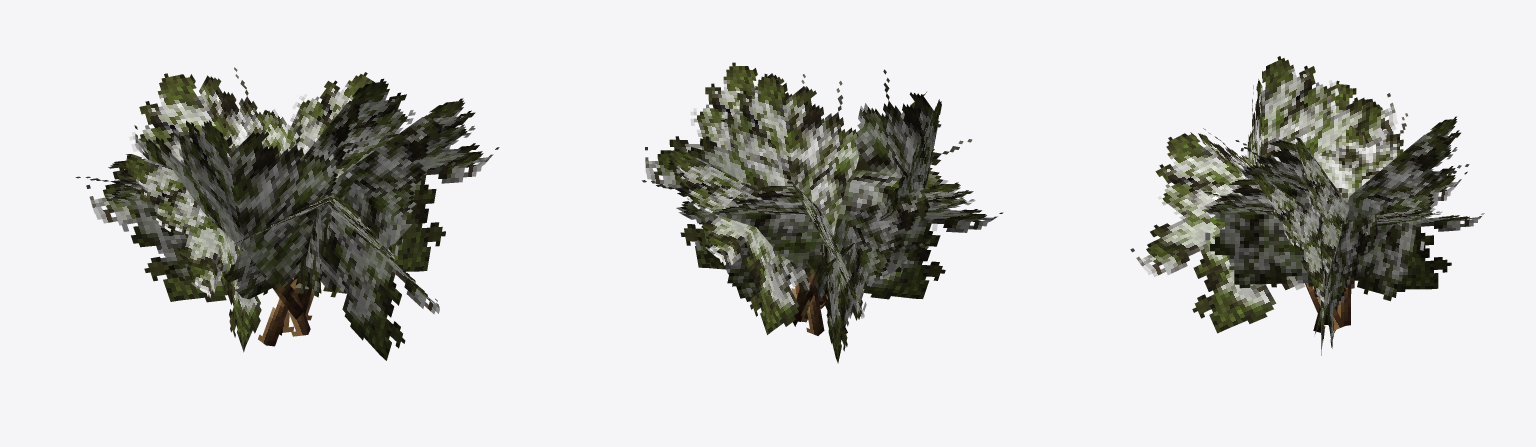
File: sbushsno_1.dae
The picture shows the model from 3 angles, left to right: view 1: azimuth 30°, elevation 25°; view 2: azimuth 150°, elevation 25°; view 3: azimuth 270°, elevation 25°; orthographic projection. The views are drawn at different scales.
Visible parts, largest first — view 1: sbushsno_1; view 2: sbushsno_1; view 3: sbushsno_1.
Boxes of the visible parts, x1=… form: sbushsno_1: x1=75, y1=67, x2=499, y2=360; sbushsno_1: x1=642, y1=62, x2=1003, y2=363; sbushsno_1: x1=1130, y1=56, x2=1484, y2=355.
Bounding box in the file's own units: 3.17 × 3.05 × 2.58.
Materials: 1 (1 with a texture image).
